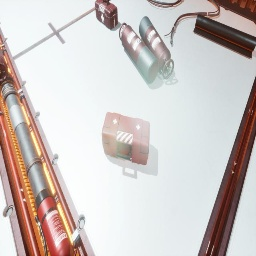FireExtinguisher ]: (34, 188, 77, 256)
FirstAidBox ,: (102, 112, 150, 165), (95, 0, 118, 30)
NitrogenTank ,: (119, 22, 159, 84), (139, 16, 174, 79), (0, 45, 8, 82)
